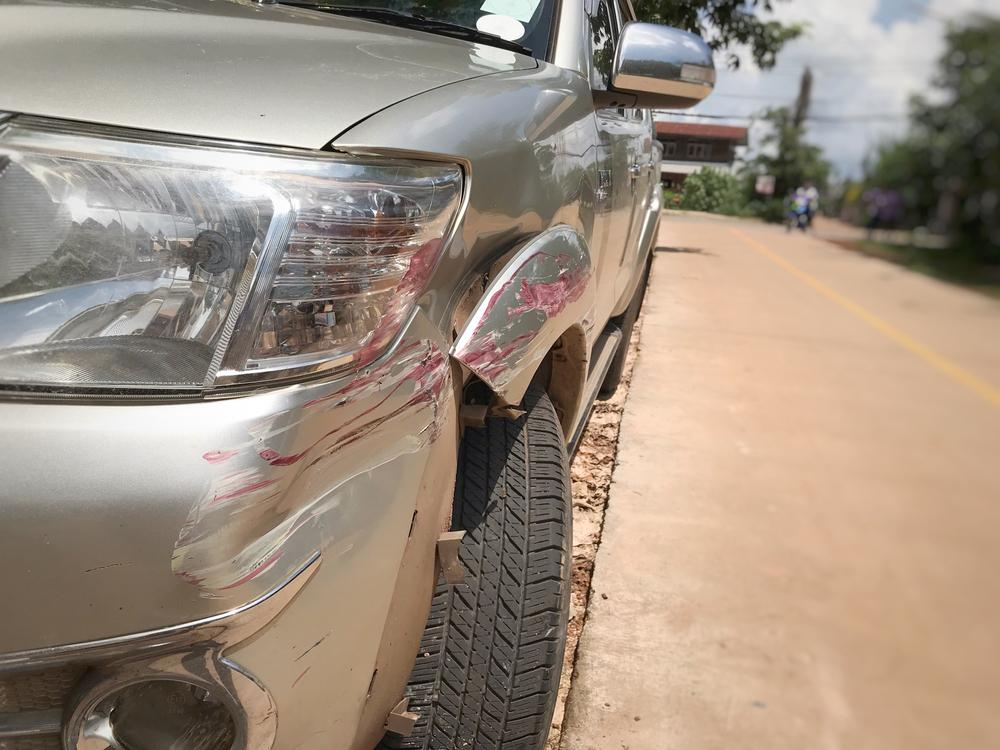dent: (233, 370, 437, 591), (418, 230, 533, 343)
scratch: (449, 232, 592, 397), (168, 414, 290, 603), (373, 335, 455, 416)
